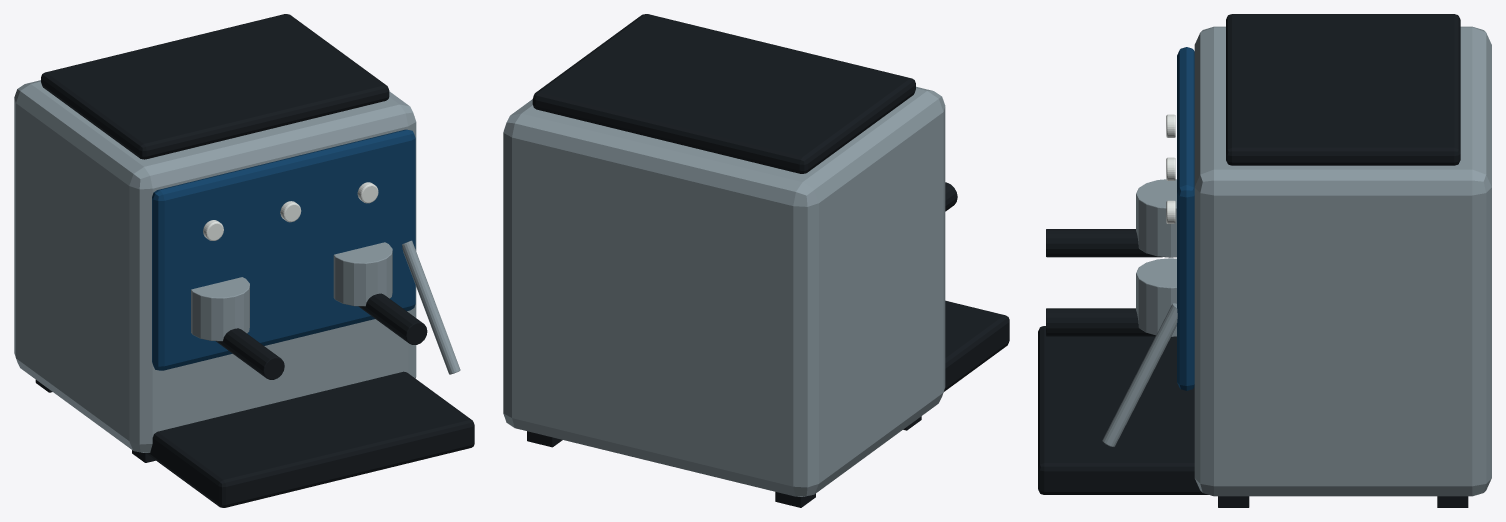
3 renders of one model, left to right at view 1: azimuth 30°, elevation 25°; view 2: azimuth 150°, elevation 25°; view 3: azimuth 270°, elevation 25°, orthographic. The views are drawn at different scales.
Parts seen in each view (by area): view 1: BODY, FRONT_Panel, TOP_WarmingTray, DRIP_Tray, GROUP_Head.001, GROUP_Head, STEAM_Wand, PORTAFILTER_Handle, PORTAFILTER_Handle.001; view 2: BODY, TOP_WarmingTray, DRIP_Tray; view 3: BODY, TOP_WarmingTray, DRIP_Tray, FRONT_Panel, GROUP_Head, PORTAFILTER_Handle, PORTAFILTER_Handle.001, GROUP_Head.001, STEAM_Wand.
Part boxes in pixels (left/top/right/bottom): BODY: left=14, top=80, right=416, bottom=452; FRONT_Panel: left=152, top=129, right=415, bottom=370; TOP_WarmingTray: left=41, top=14, right=389, bottom=159; DRIP_Tray: left=146, top=371, right=474, bottom=507; GROUP_Head.001: left=333, top=242, right=392, bottom=306; GROUP_Head: left=191, top=277, right=249, bottom=341; STEAM_Wand: left=402, top=240, right=460, bottom=374; PORTAFILTER_Handle: left=216, top=328, right=284, bottom=379; PORTAFILTER_Handle.001: left=358, top=293, right=427, bottom=344; BODY: left=503, top=86, right=945, bottom=496; TOP_WarmingTray: left=532, top=14, right=915, bottom=173; DRIP_Tray: left=944, top=300, right=1009, bottom=391; BODY: left=1194, top=26, right=1491, bottom=496; TOP_WarmingTray: left=1226, top=14, right=1460, bottom=165; DRIP_Tray: left=1038, top=326, right=1208, bottom=494; FRONT_Panel: left=1177, top=47, right=1194, bottom=390; GROUP_Head: left=1136, top=179, right=1176, bottom=257; PORTAFILTER_Handle: left=1046, top=229, right=1162, bottom=257; PORTAFILTER_Handle.001: left=1046, top=308, right=1155, bottom=336; GROUP_Head.001: left=1136, top=258, right=1176, bottom=336; STEAM_Wand: left=1102, top=303, right=1177, bottom=446.
Bounding box in the file's own units: 0.48 × 0.5045 × 0.58.
